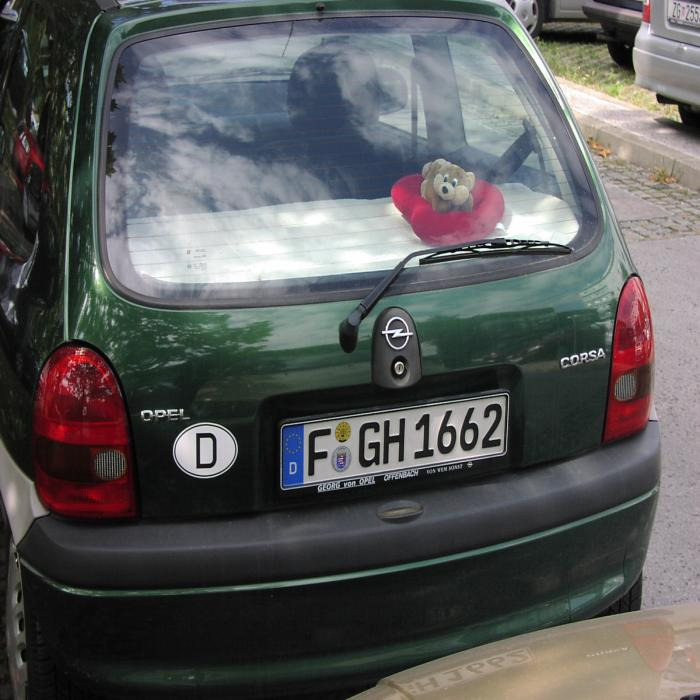number_plate: (283, 398, 508, 483)
